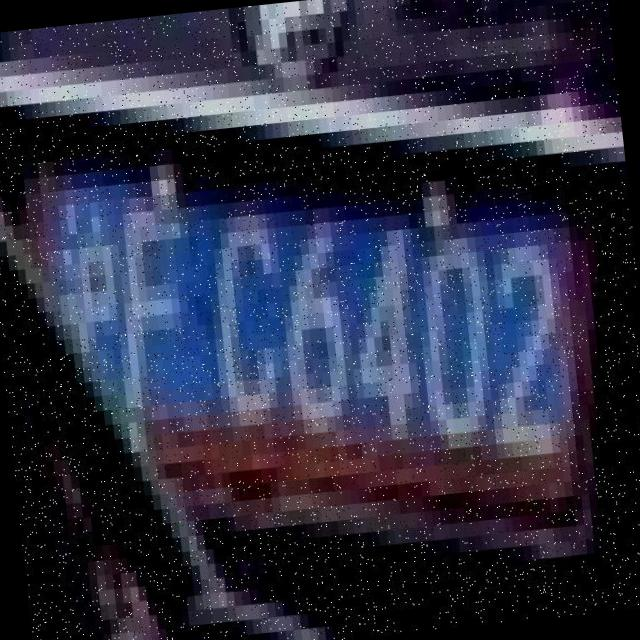LicensePlate: (32, 71, 604, 591)
